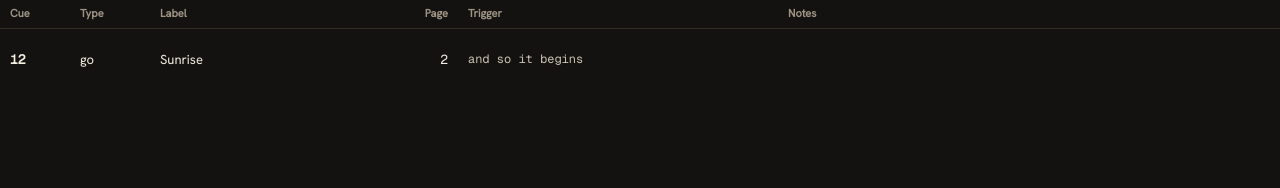
Test: a valid number is saved as parsed; "abc" shows the error and writes nothing
Replace the text in the field named "Number, row 1" with "abc": (35, 60) [10,38,60,82]
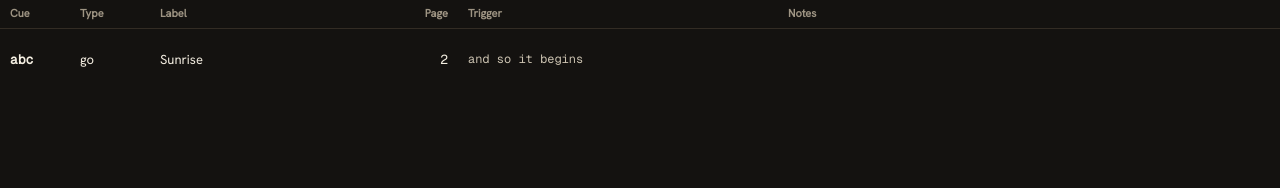
Press Enter in the field named "Number, row 1", box [10,38,60,82]
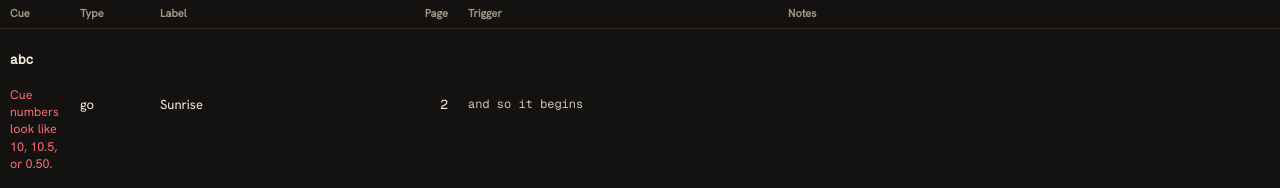
Result: the message shows "Cue numbers look like" at [10,86,59,172]
Replace the text in the field named "Number, row 1" with "12.5": (35, 60) [10,38,60,82]
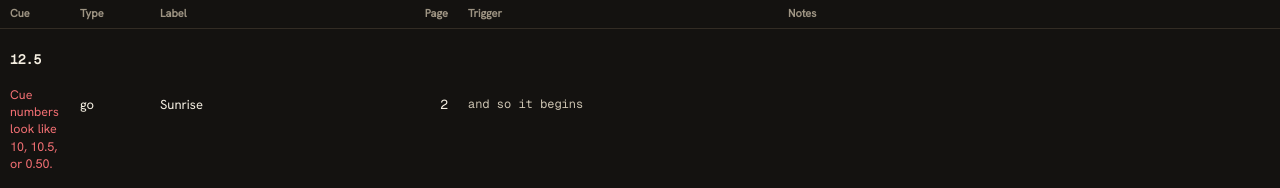
Press Enter in the field named "Number, row 1", box [10,38,60,82]
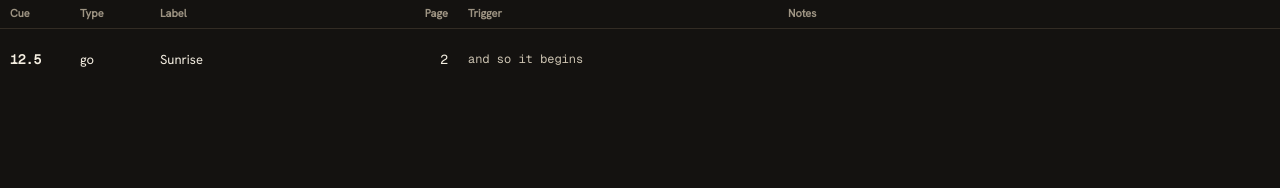
Result: the message "Cue numbers look like 10, 10.5, or 0.50." is gone
